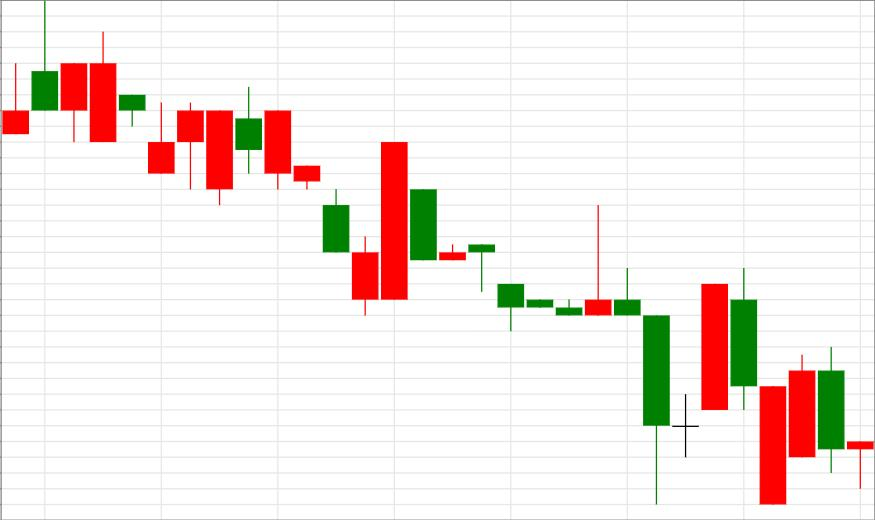morning_star_rise: (410, 189, 728, 505)
